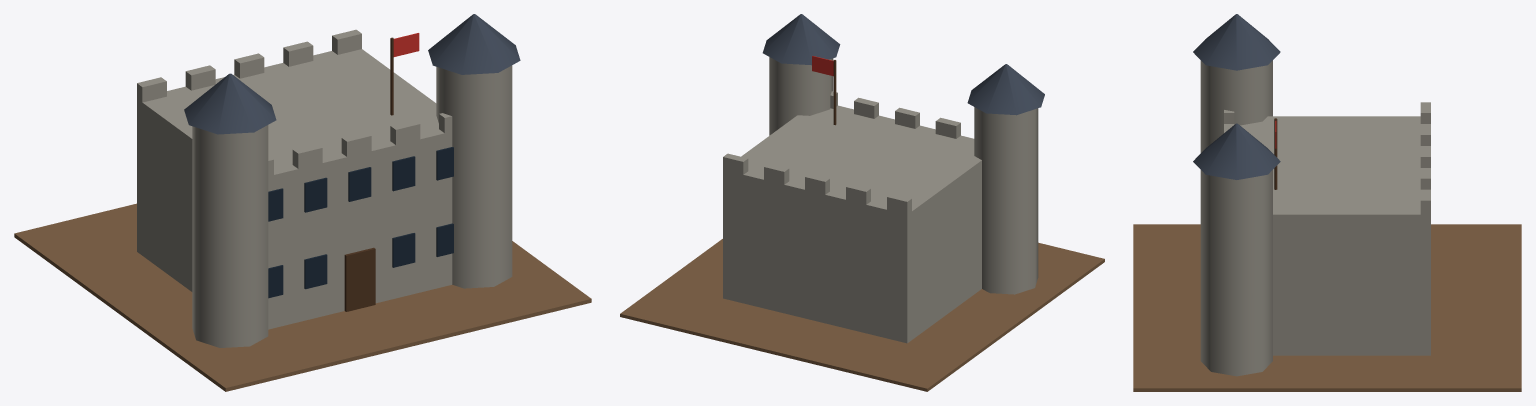
Rendered from bld_special_command_center_a03_lod1.glb.
The picture shows the model from 3 angles, left to right: view 1: azimuth 30°, elevation 25°; view 2: azimuth 150°, elevation 25°; view 3: azimuth 270°, elevation 25°; orthographic projection. The views are drawn at different scales.
Visible parts, largest first — view 1: body; view 2: body; view 3: body.
Part boxes in pixels (x1,y1,x2,y2): body: (14, 14, 591, 391); body: (620, 14, 1104, 391); body: (1133, 14, 1521, 391).
Bounding box in the file's own units: 15 × 10.25 × 15.
